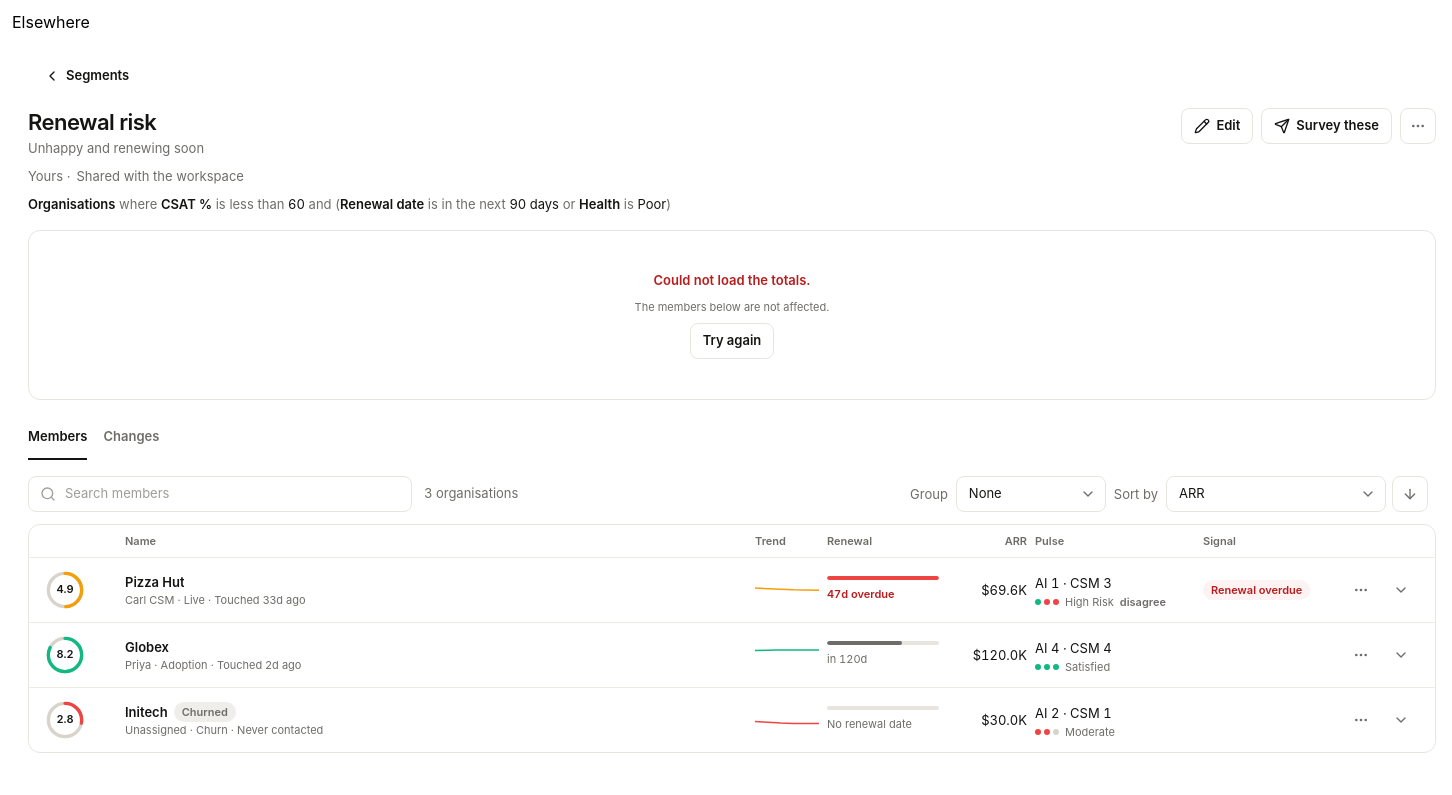
Test: /segments/:id (spec §3) › offers Try again when the totals fail, and shows the tiles once a retry succeeds
Check: the text "Could not load the totals." is shown, box left=654, top=271, right=810, bottom=290
Click the button "Try again" at (732, 340), box left=690, top=322, right=774, bottom=358
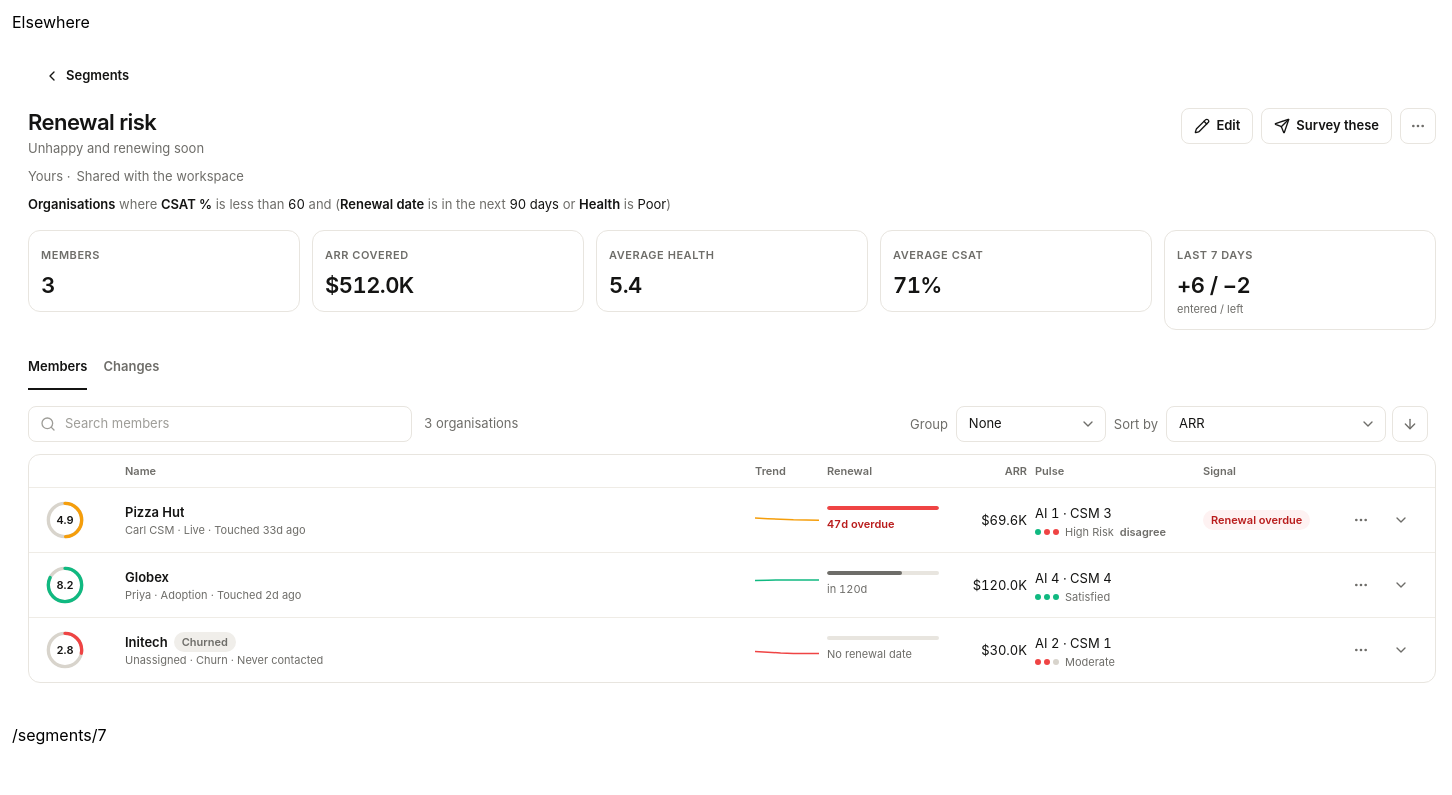
Check: the text "3" is shown, box left=41, top=272, right=55, bottom=298
Check: the text "Could not load the totals." is gone
